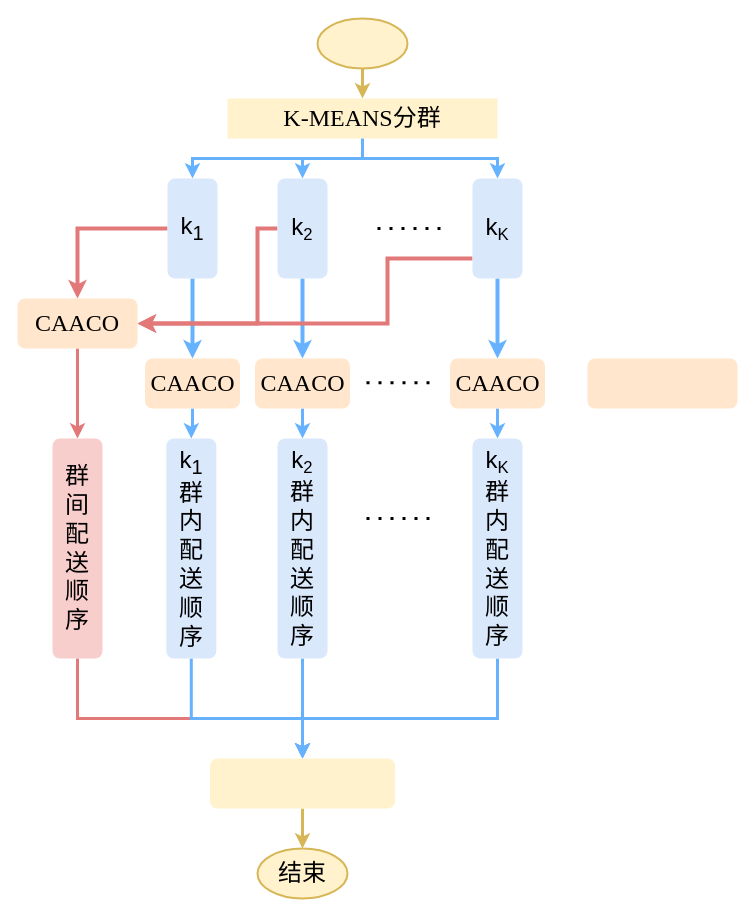
The diagram is 754 pixels wide and 916 high, and some of its shapes have lost their labels. The centre of each missing label's shape, as x and y in pixels:
"并行计算" goes at point (662, 383).
"开始" goes at point (362, 43).
"配送顺序合并" goes at point (302, 783).
